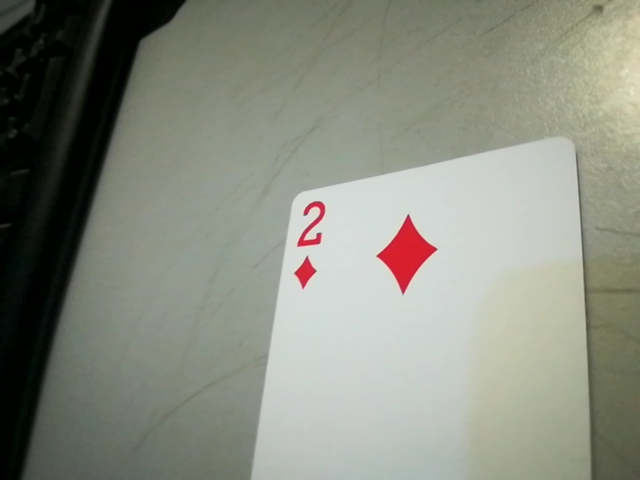fk 2: (281, 192, 340, 296)
